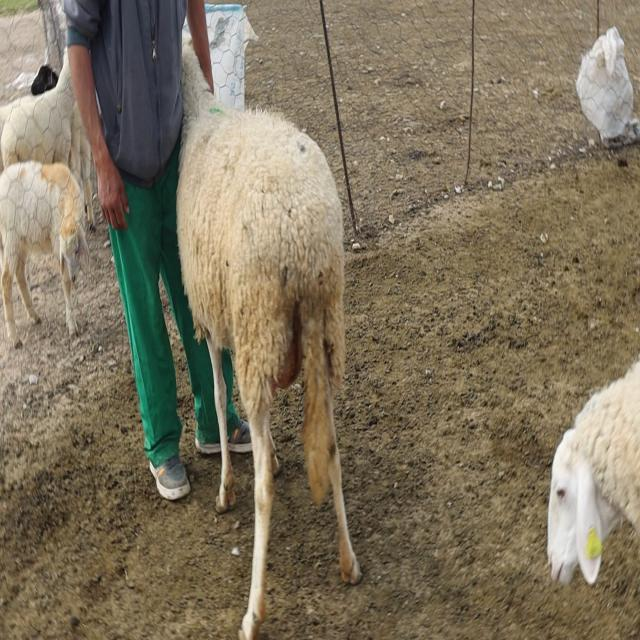Score_4: (177, 45, 361, 639)
